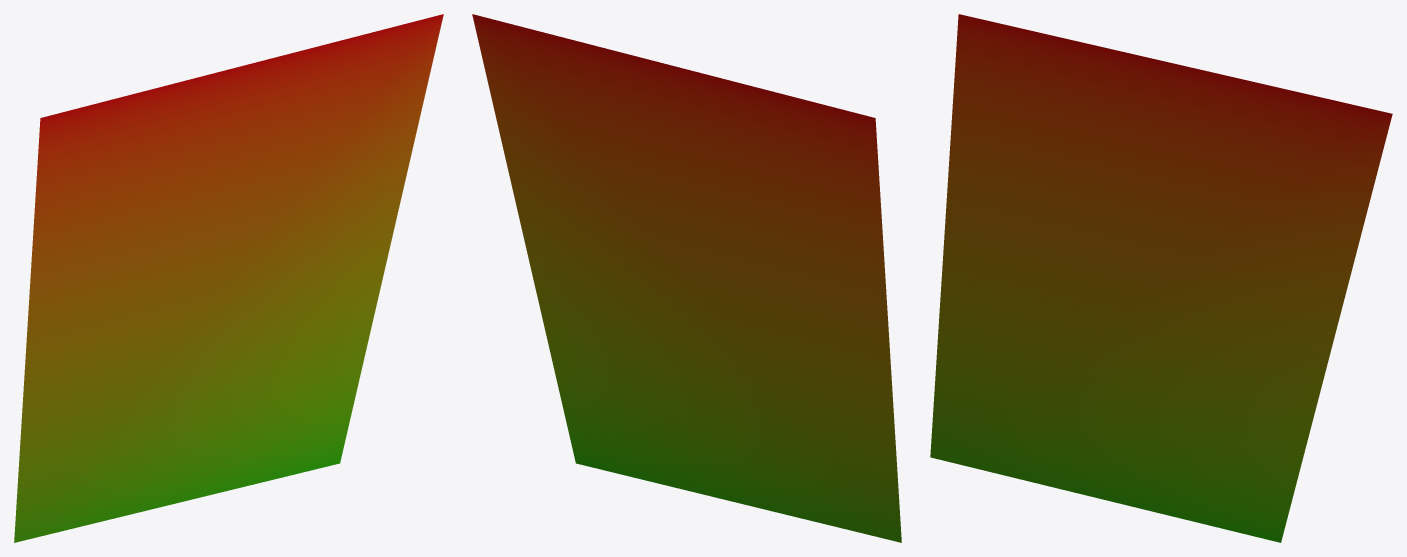
Rendered from Basket Grass_LOD4_Var1_slfpffjr.fbx.
3 views of the same model, side by side, from view 1: azimuth 30°, elevation 25°; view 2: azimuth 150°, elevation 25°; view 3: azimuth 330°, elevation 25° (orthographic). The views are drawn at different scales.
Parts seen in each view (by area): view 1: _5319_Var1_LOD4; view 2: _5319_Var1_LOD4; view 3: _5319_Var1_LOD4.
Part boxes in pixels (box(x1,y1,x2,y2)): _5319_Var1_LOD4: box(14, 14, 443, 542); _5319_Var1_LOD4: box(472, 14, 901, 542); _5319_Var1_LOD4: box(930, 14, 1392, 542).
Bounding box in the file's own units: 70.64 × 66.62 × 1.43e-06.
